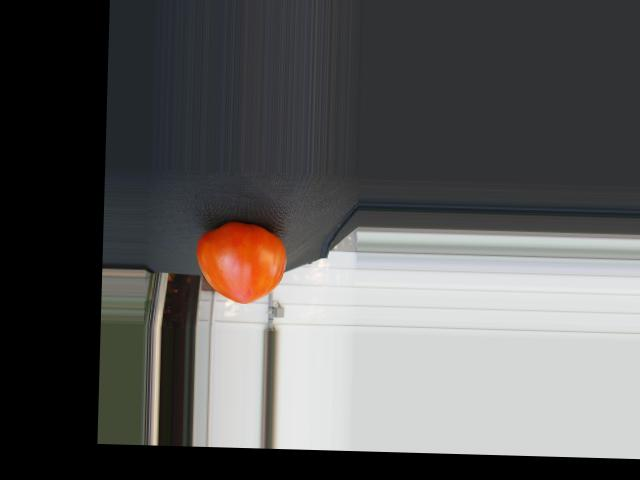tomato: (195, 221, 287, 305)
